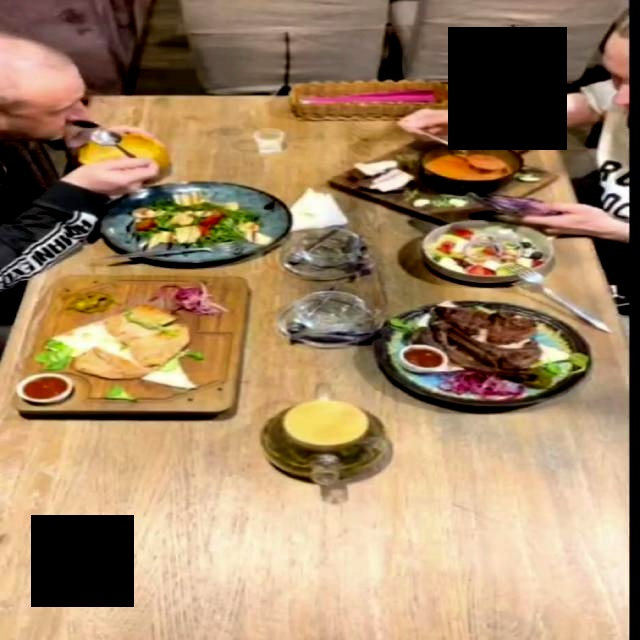meat: (15, 272, 256, 426), (370, 300, 594, 408)
salad: (96, 181, 290, 264), (420, 218, 555, 283)
soup: (326, 136, 562, 223), (77, 133, 170, 172)
tea: (248, 377, 395, 502)
